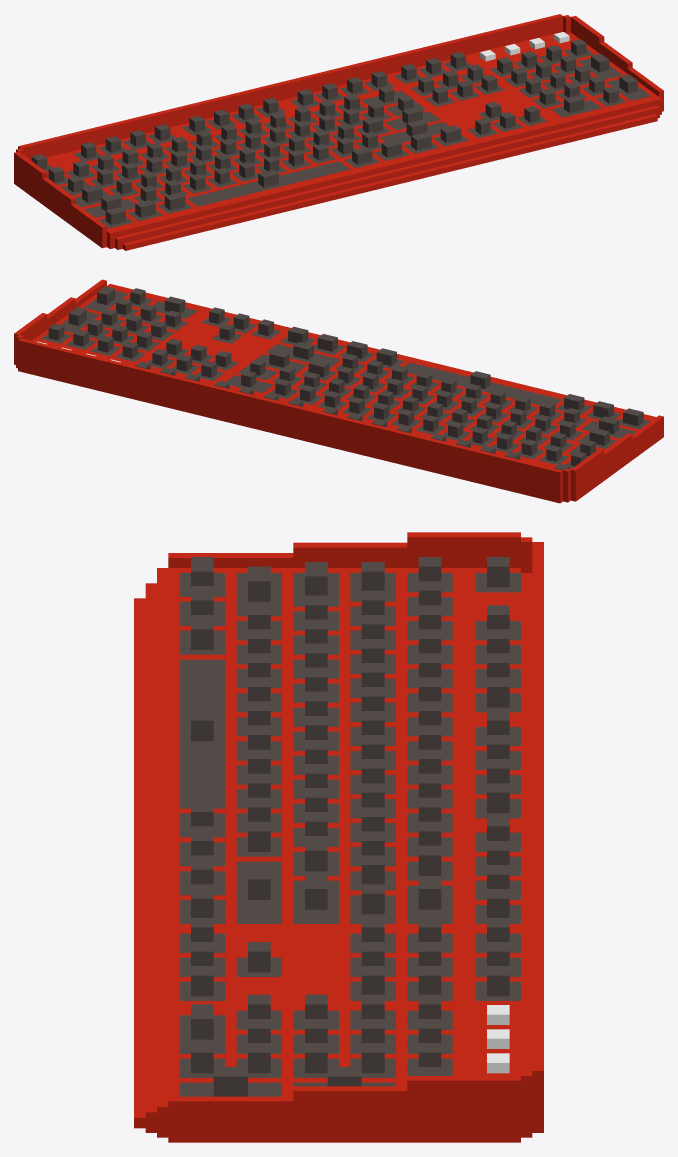
File: KeyBoard.obj
3 renders of one model, top to bottom at view 1: azimuth 30°, elevation 25°; view 2: azimuth 150°, elevation 25°; view 3: azimuth 270°, elevation 25°, orthographic. The views are drawn at different scales.
Parts seen in each view (by area): view 1: KeyBoard; view 2: KeyBoard; view 3: KeyBoard.
Boxes of the visible parts, x1,y1,x2,y2 form: KeyBoard: [14, 14, 663, 250]; KeyBoard: [14, 279, 663, 503]; KeyBoard: [134, 532, 543, 1142].
Size of the model in its own units: 114 by 6 by 36.
Materials: 1 (1 with a texture image).
